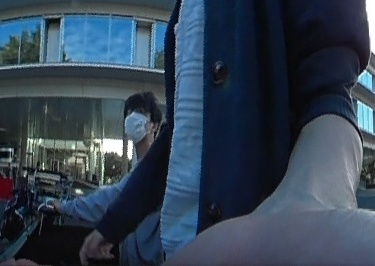person: (48, 90, 168, 266)
